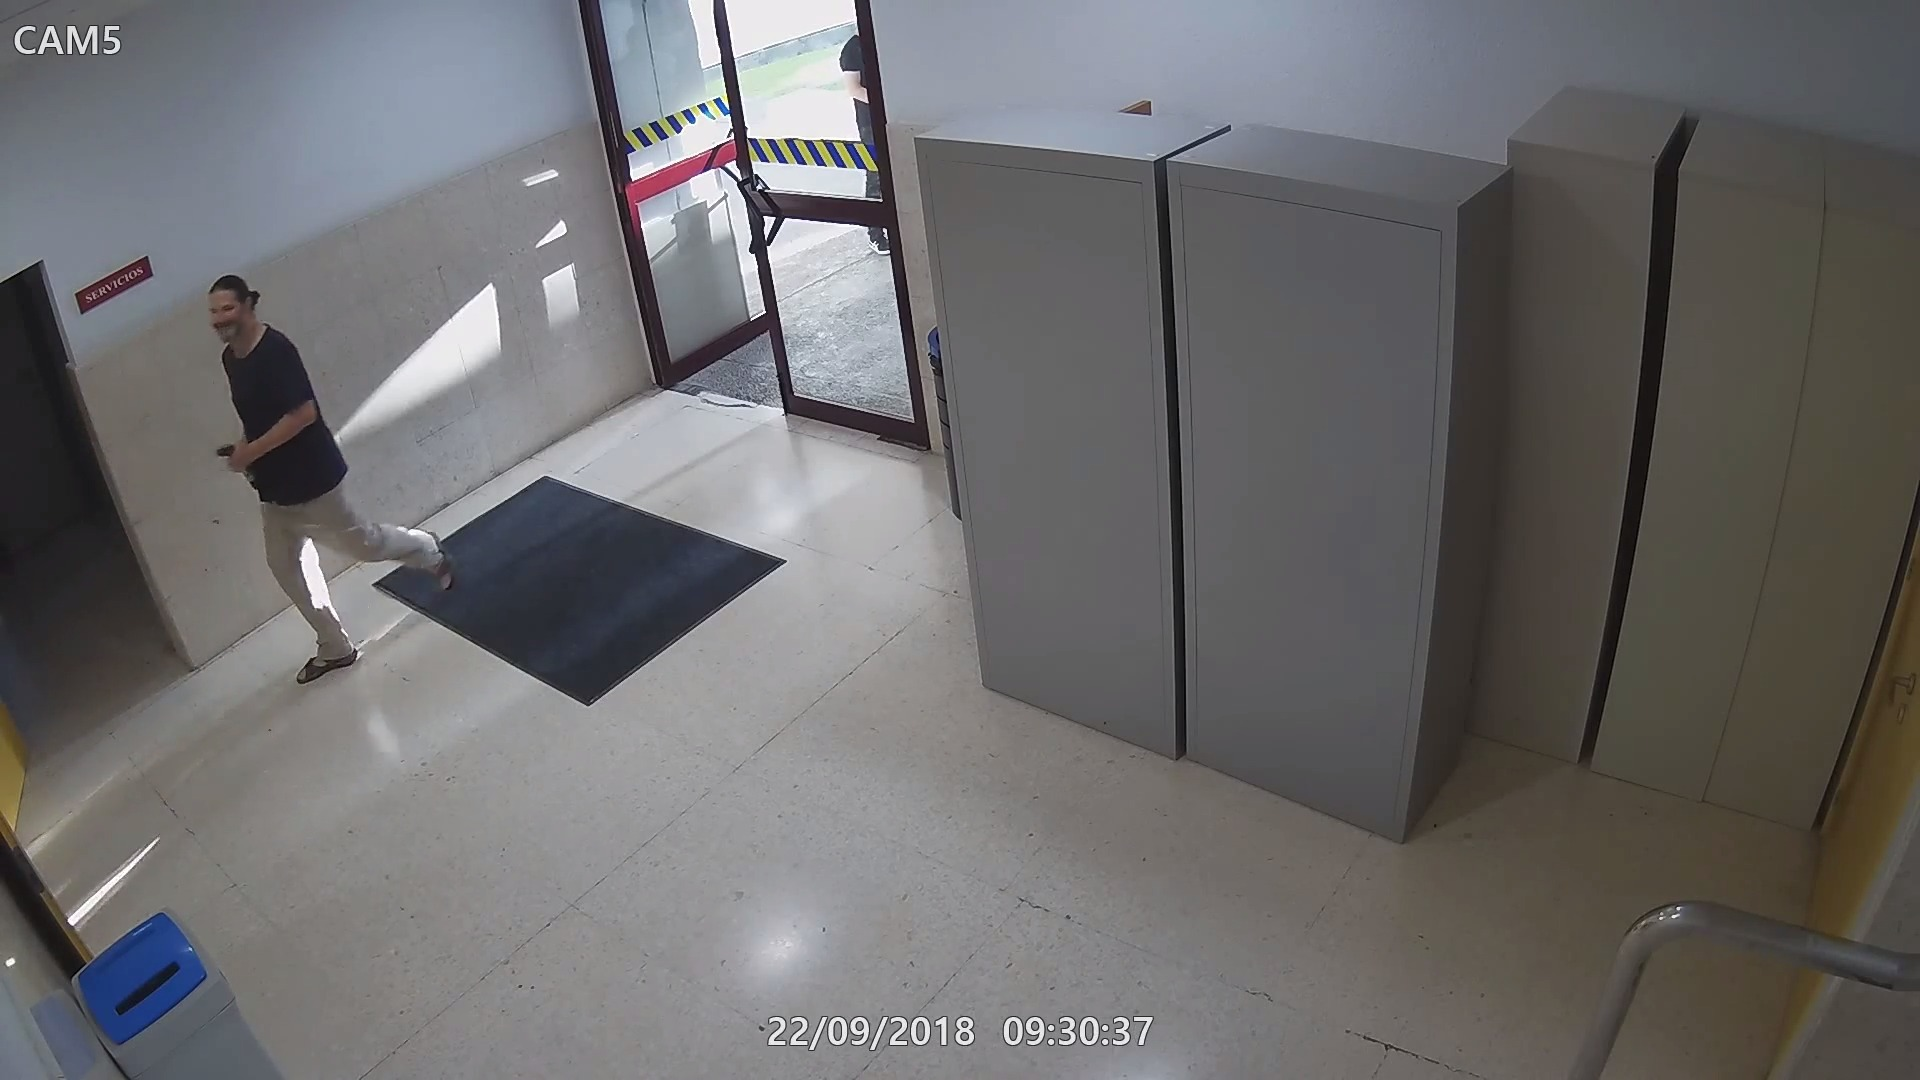Short_rifle: (212, 433, 249, 481)
